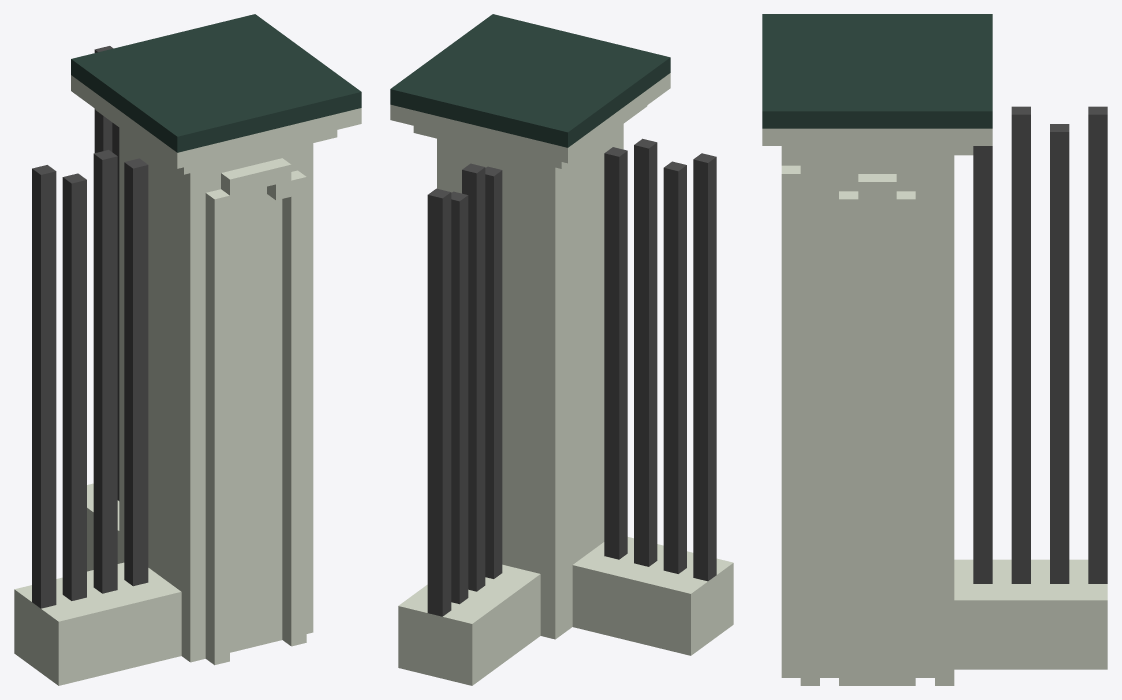
File: gate_corner_R.obj
3 views of the same model, side by side, from view 1: azimuth 30°, elevation 25°; view 2: azimuth 150°, elevation 25°; view 3: azimuth 270°, elevation 25° (orthographic). The views are drawn at different scales.
Size of the model in its own units: 1.8 by 3.4 by 1.8.
Materials: 1 (1 with a texture image).
